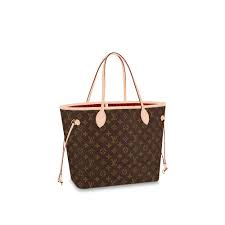bag: (50, 41, 173, 195)
